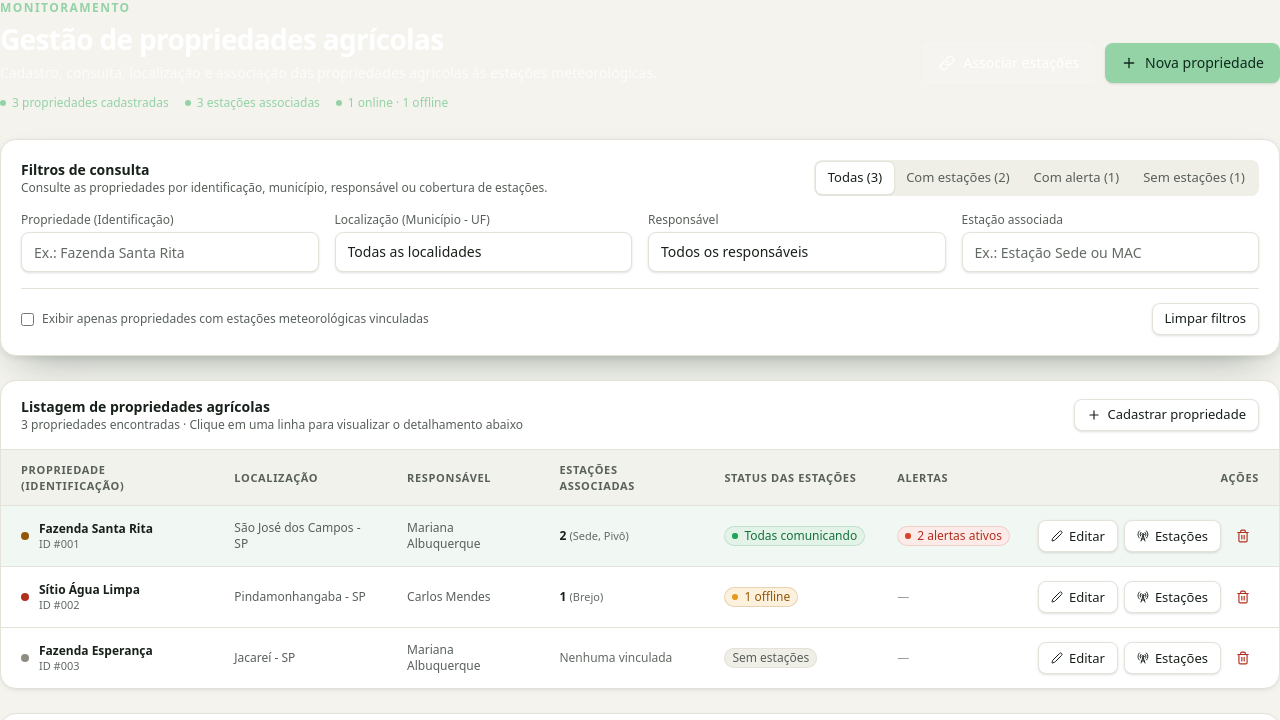
Test: PropertiesPage - [QA] CRUD e Associação de Propriedades › Cenário 7: exclui propriedade via DELETE e trata confirmação
Note: Clica no botão de excluir (IconButton com aria-label)
Click the button named "Excluir Fazenda Esperança". click: [1243, 658]
box: [1227, 642, 1259, 674]
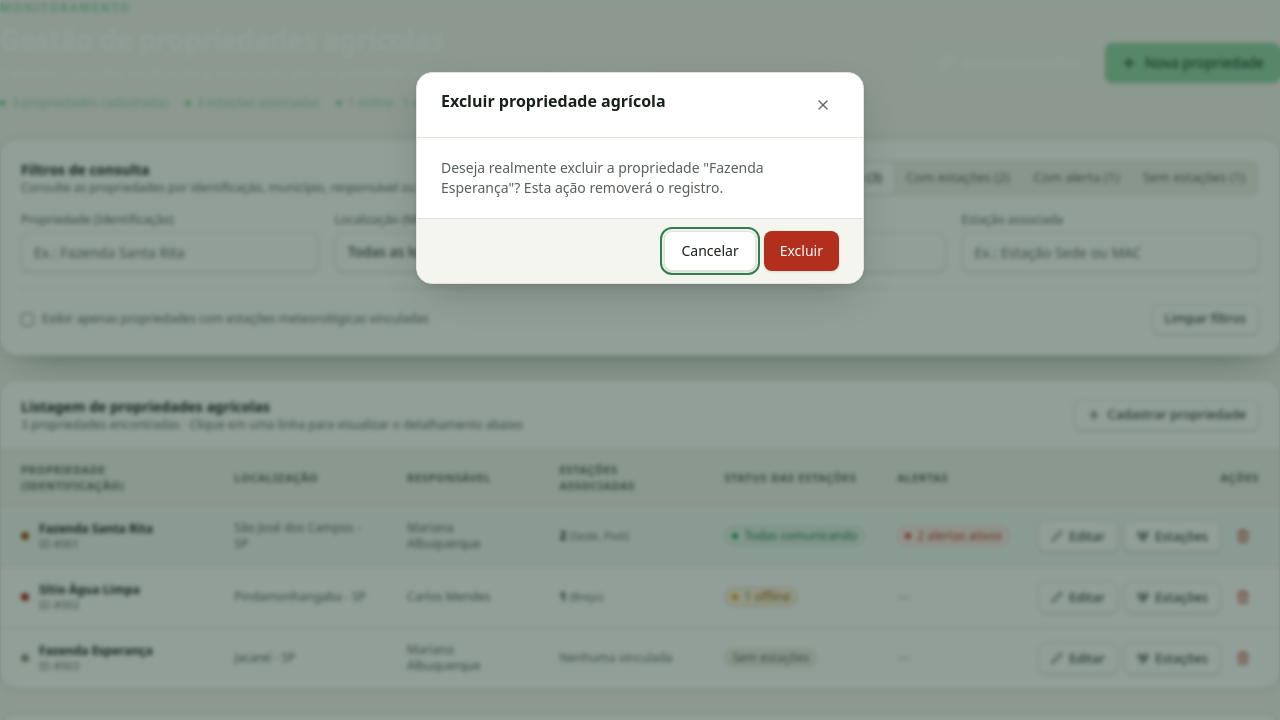
Note: Confirma exclusão
Click the button "Excluir". click: [801, 251]
box: [764, 231, 839, 271]
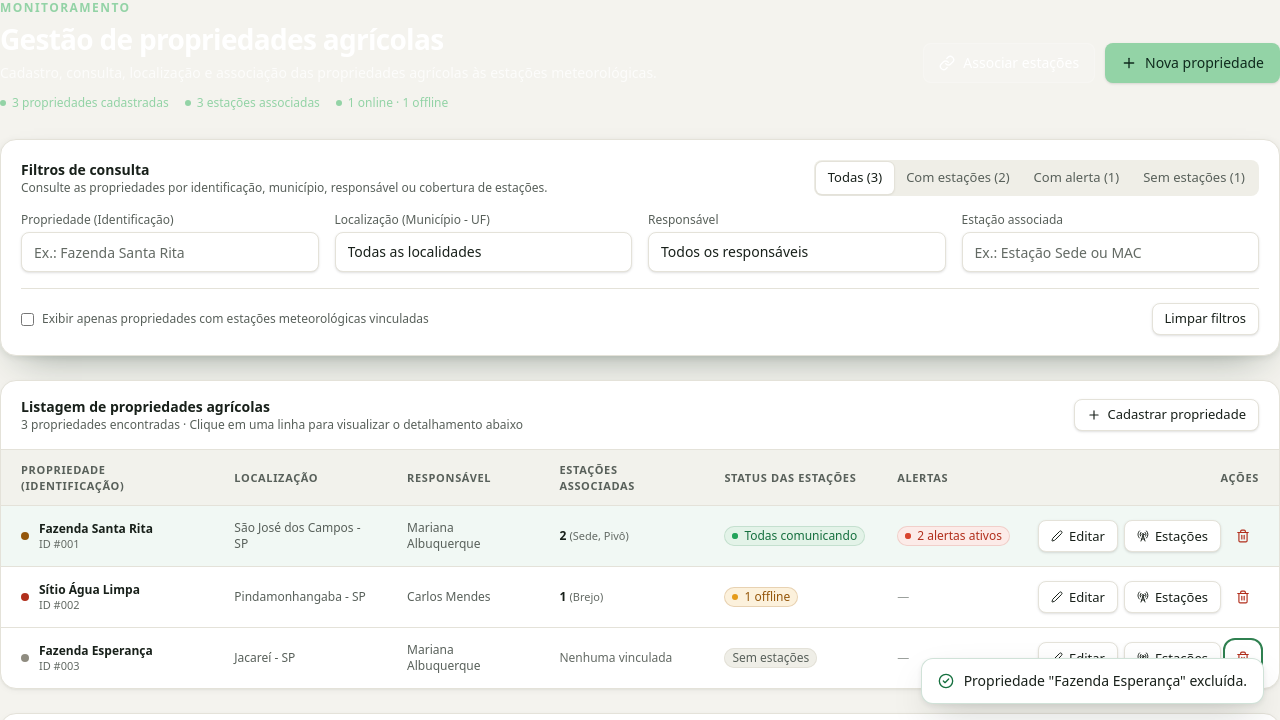
Result: the text "Propriedade \"Fazenda Esperança\" excluída." is shown at [921, 658, 1264, 704]
